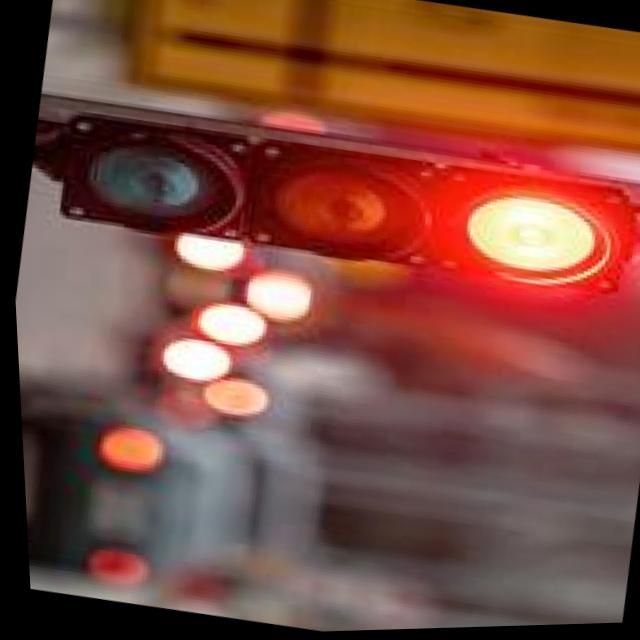red_light: (398, 120, 640, 351)
